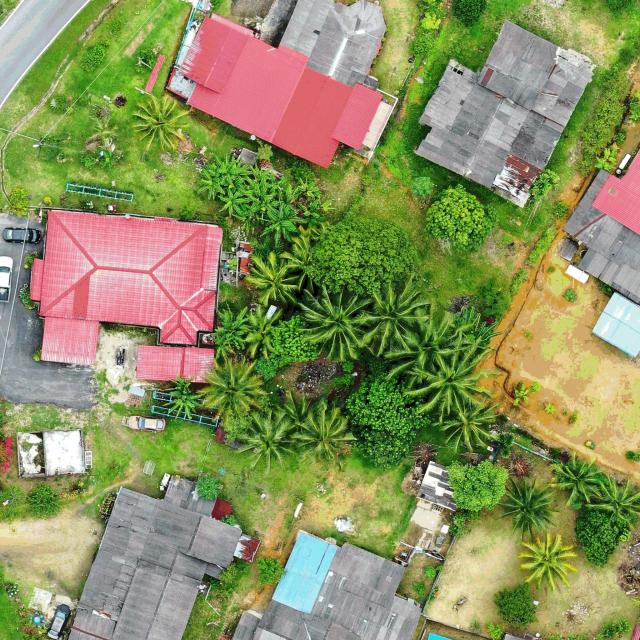Tree: (302, 215, 418, 296), (345, 370, 432, 466), (408, 346, 502, 424), (292, 280, 372, 363), (360, 280, 425, 354), (426, 182, 496, 250), (387, 312, 465, 373), (197, 353, 265, 422), (517, 530, 580, 594), (500, 474, 561, 540), (237, 410, 300, 472), (132, 94, 192, 153), (446, 457, 509, 511), (438, 398, 499, 453), (295, 406, 356, 460), (245, 250, 301, 306), (549, 451, 603, 509), (579, 512, 630, 570), (586, 474, 640, 526), (280, 232, 324, 287), (245, 305, 287, 361), (210, 301, 250, 358), (494, 582, 538, 630), (162, 369, 204, 419), (259, 202, 301, 248), (0, 482, 29, 526), (28, 482, 60, 519), (215, 185, 249, 219), (196, 167, 227, 201), (254, 556, 286, 586), (81, 40, 109, 74), (530, 167, 560, 197), (595, 619, 632, 640), (8, 186, 32, 218), (195, 474, 222, 501), (297, 177, 321, 203), (296, 200, 320, 219), (486, 622, 503, 640), (552, 200, 568, 219)
